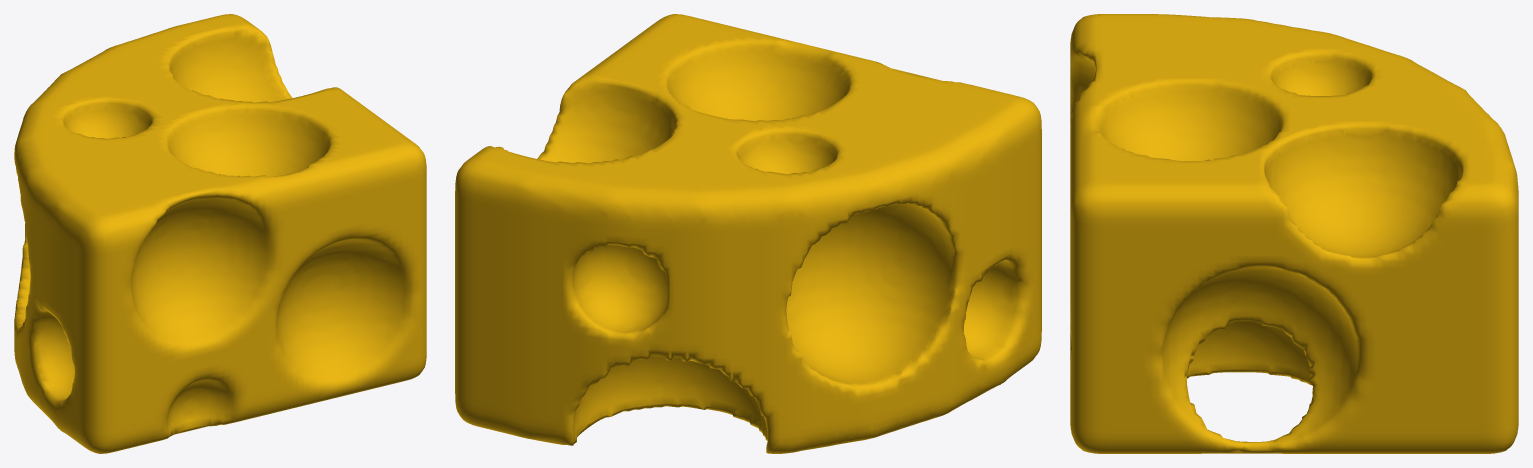
The model's file is cheese.glb.
3 renders of one model, left to right at view 1: azimuth 30°, elevation 25°; view 2: azimuth 150°, elevation 25°; view 3: azimuth 270°, elevation 25°, orthographic. The views are drawn at different scales.
Visible parts, largest first — view 1: Cube; view 2: Cube; view 3: Cube.
Part boxes in pixels (<box>): Cube: <box>14,14,426,453</box>; Cube: <box>455,14,1041,453</box>; Cube: <box>1070,14,1518,453</box>.
Size of the model in its own units: 2 by 1.32 by 2.
